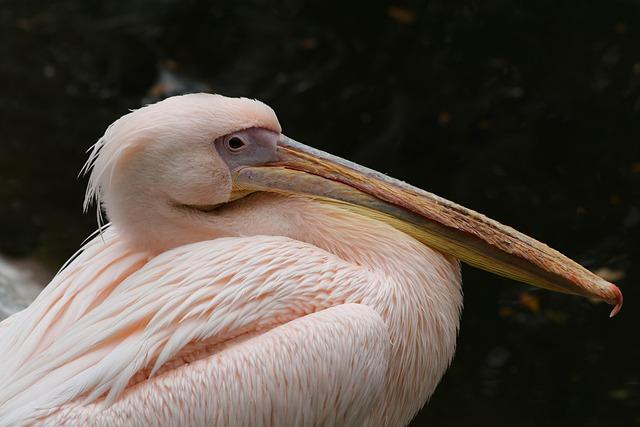Non_Gorille: (10, 55, 640, 409)
